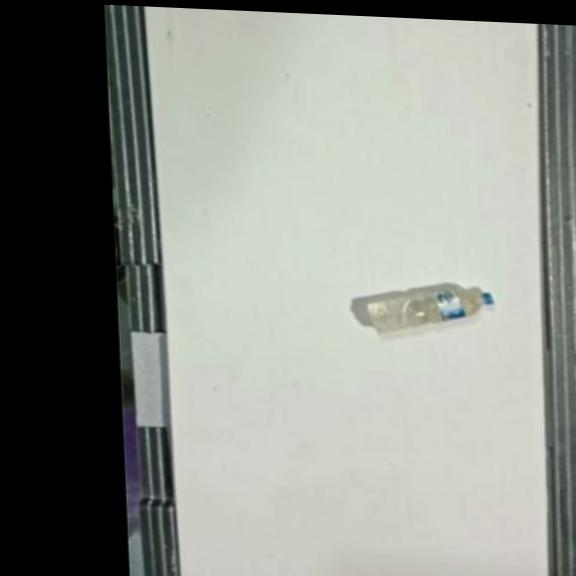Plastik: (364, 282, 496, 341)
